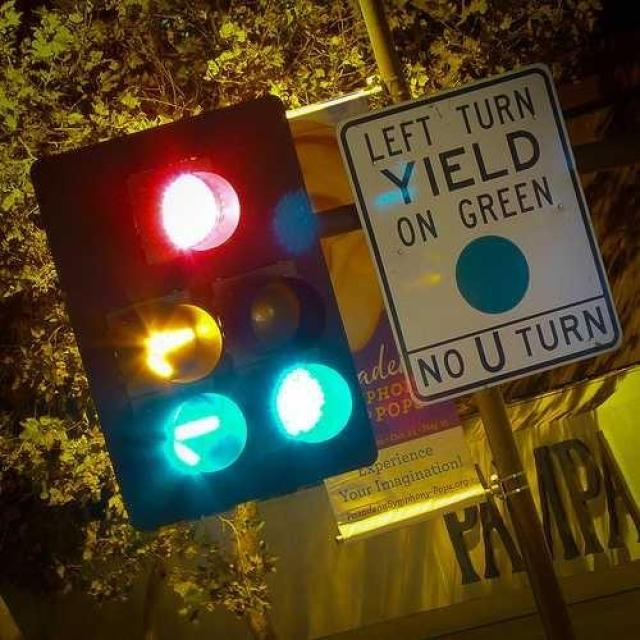Traffic Light -Green-: (250, 366, 371, 451), (151, 393, 251, 487)
Traffic Light -Red-: (128, 146, 268, 264)
Traffic Light -Yellow-: (130, 279, 234, 398)
